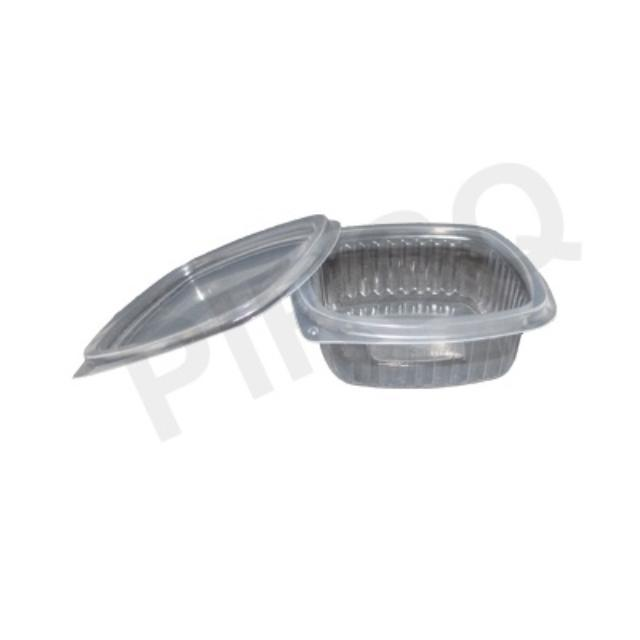plastic: (74, 215, 554, 387)
